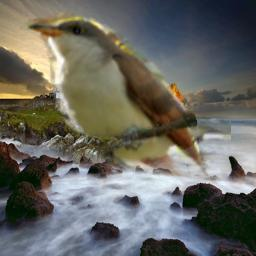Cuckoo: (20, 2, 231, 176)
